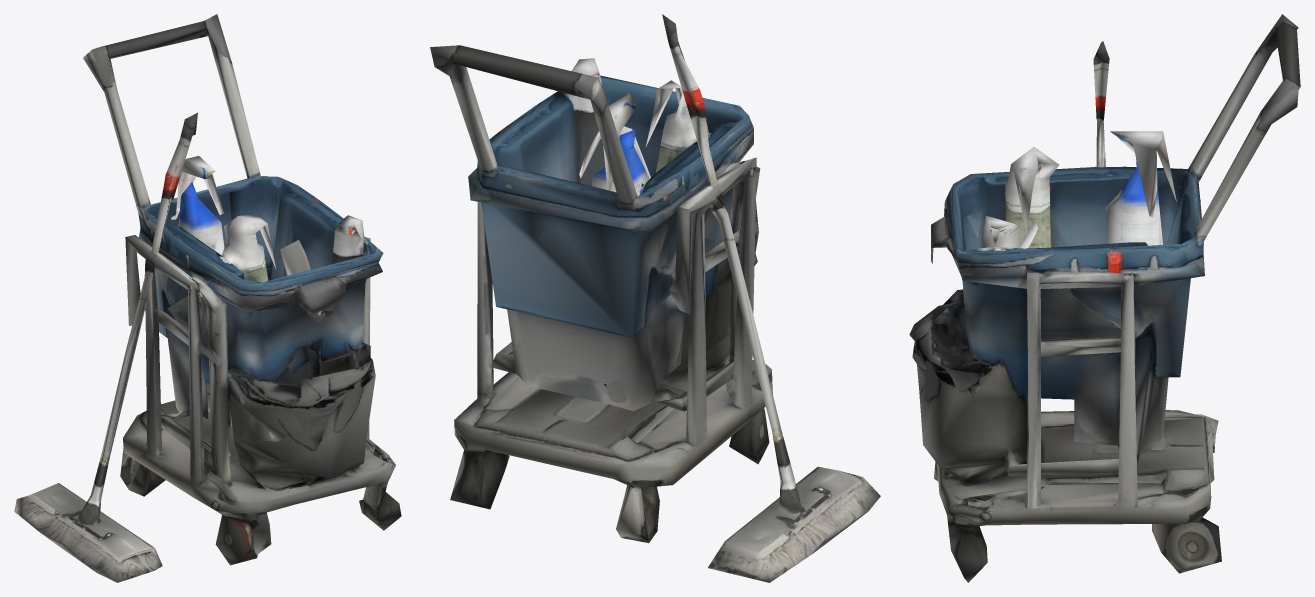
File: janitor_cart.glb
The picture shows the model from 3 angles, left to right: view 1: azimuth 30°, elevation 25°; view 2: azimuth 150°, elevation 25°; view 3: azimuth 270°, elevation 25°; orthographic projection. The views are drawn at different scales.
Visible parts, largest first — view 1: Model; view 2: Model; view 3: Model.
Boxes of the visible parts, box(x1,y1,x2,y2) form: Model: box(14, 14, 401, 582); Model: box(430, 14, 880, 582); Model: box(909, 14, 1300, 582).
Bounding box in the file's own units: 0.8552 × 1.2 × 0.8848.
Materials: 1 (1 with a texture image).
